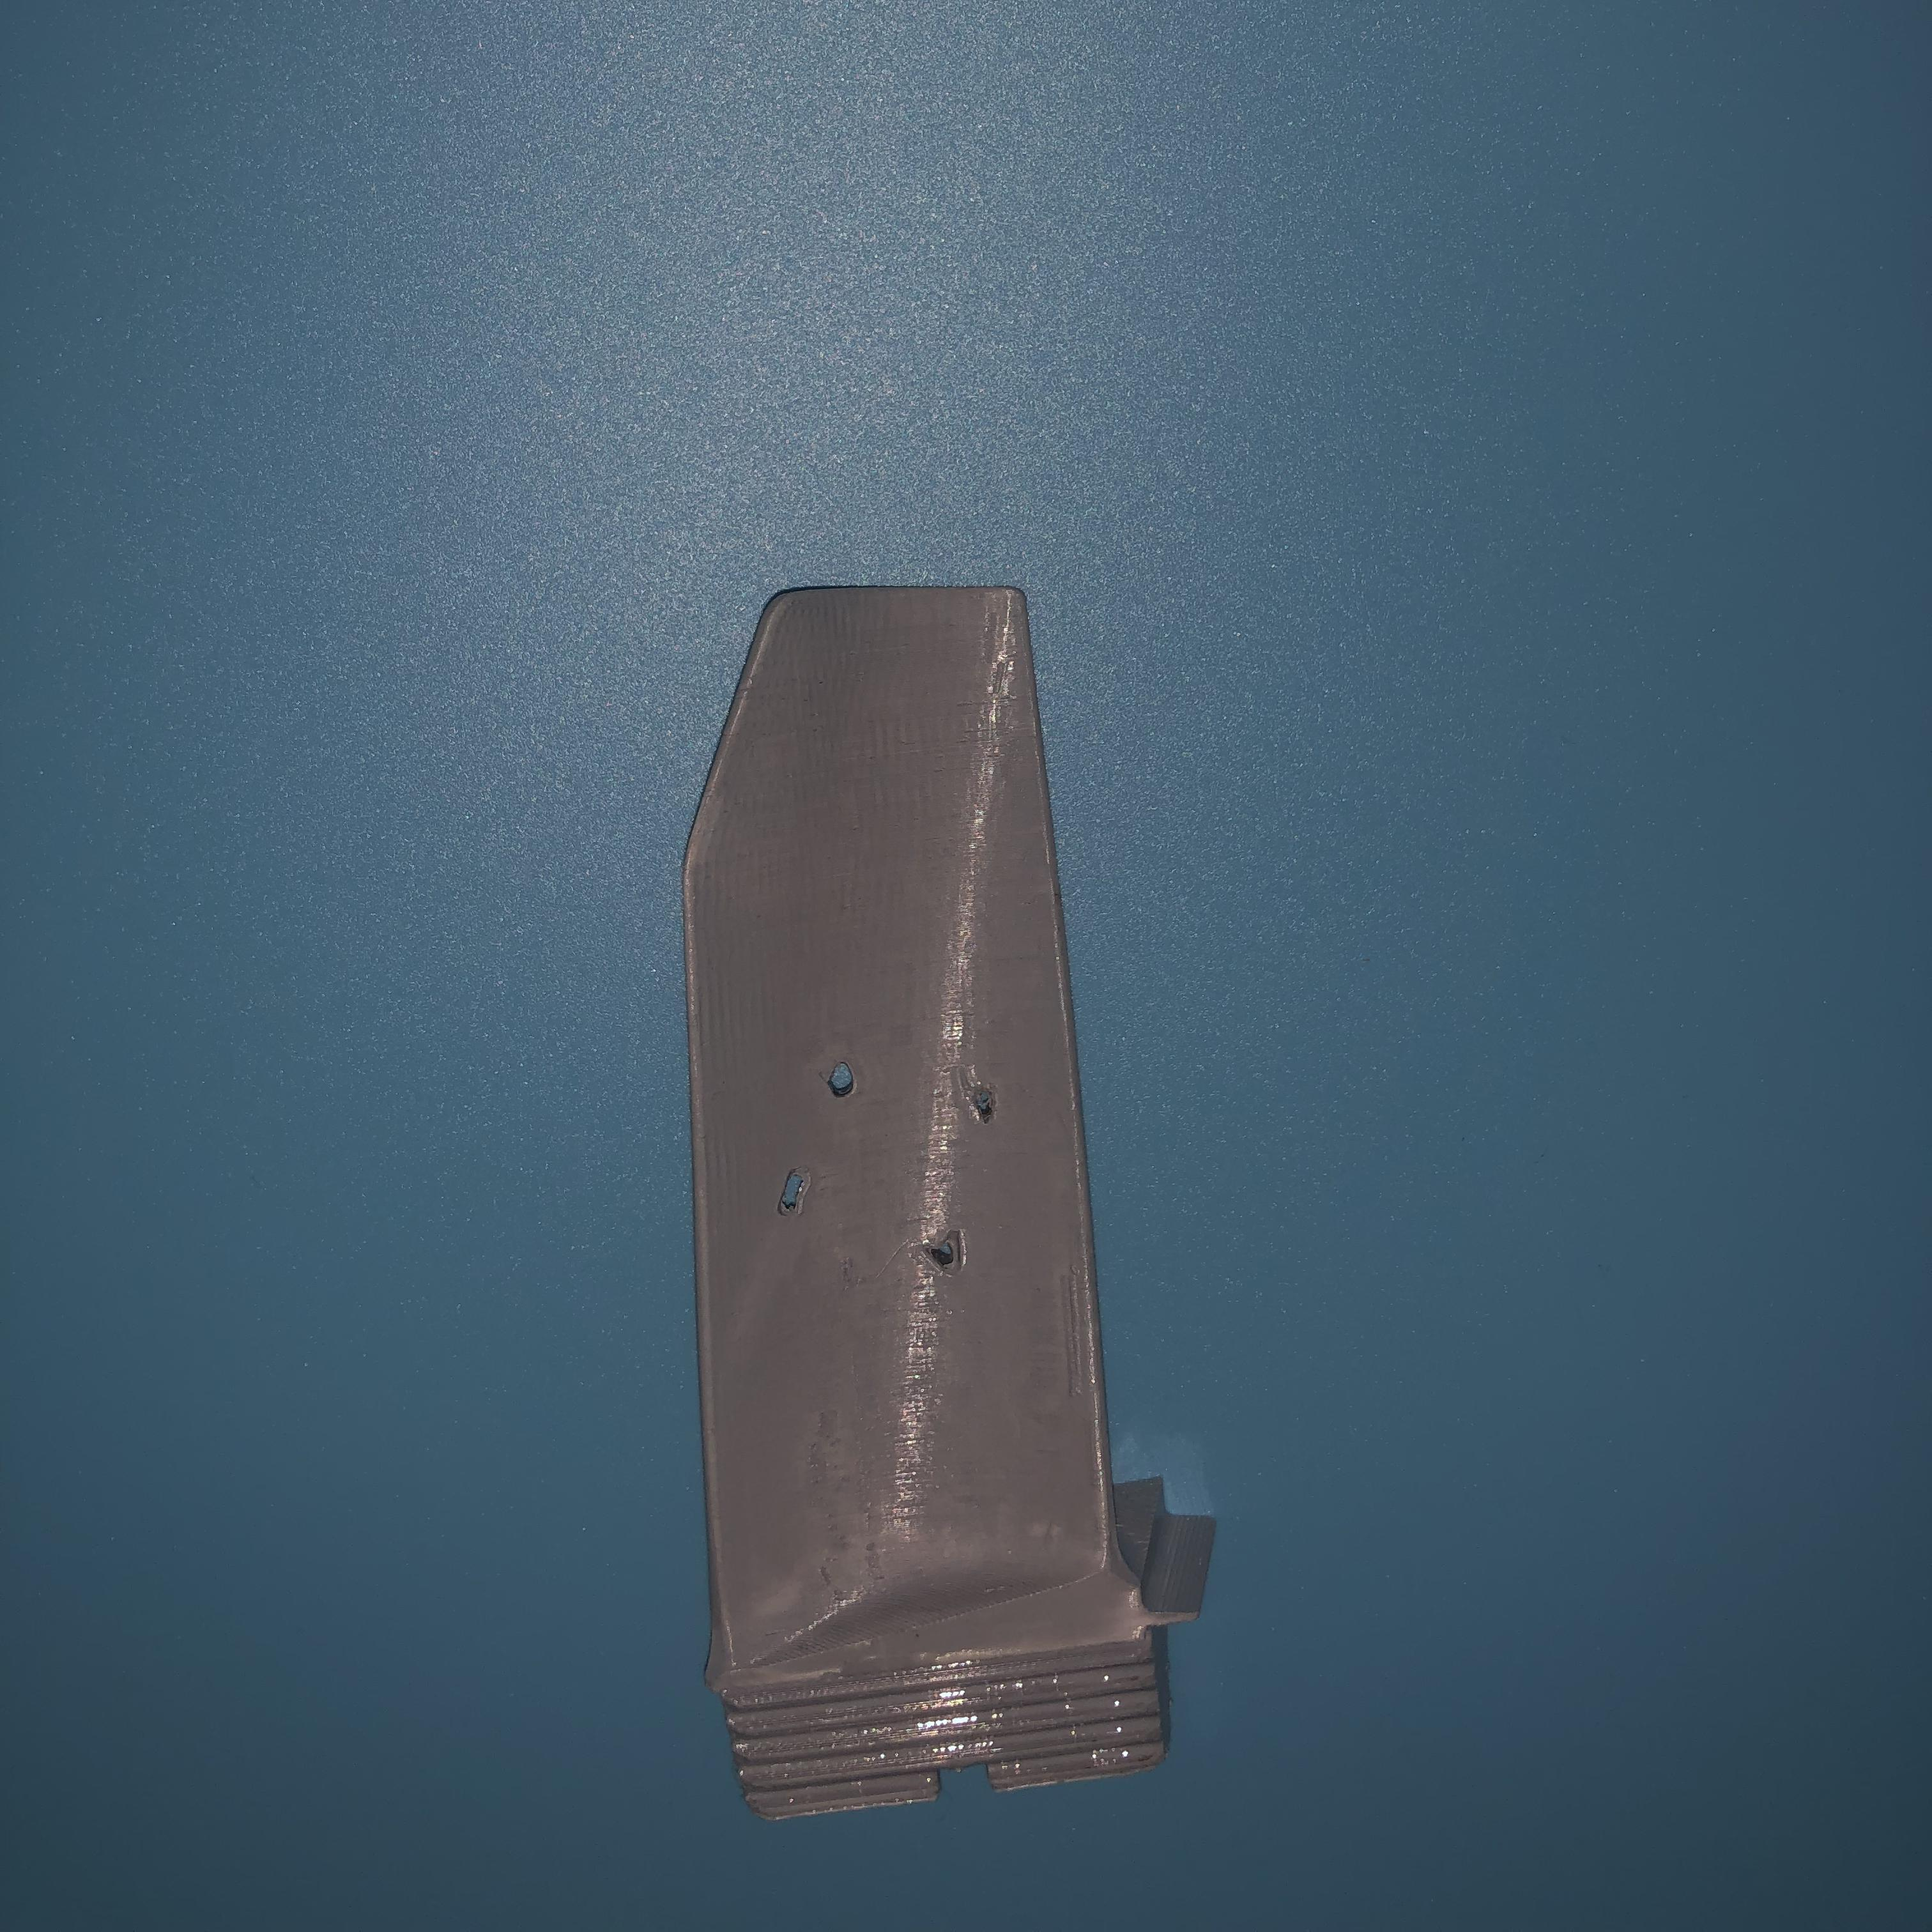breakdown: (766, 1058, 996, 1277)
